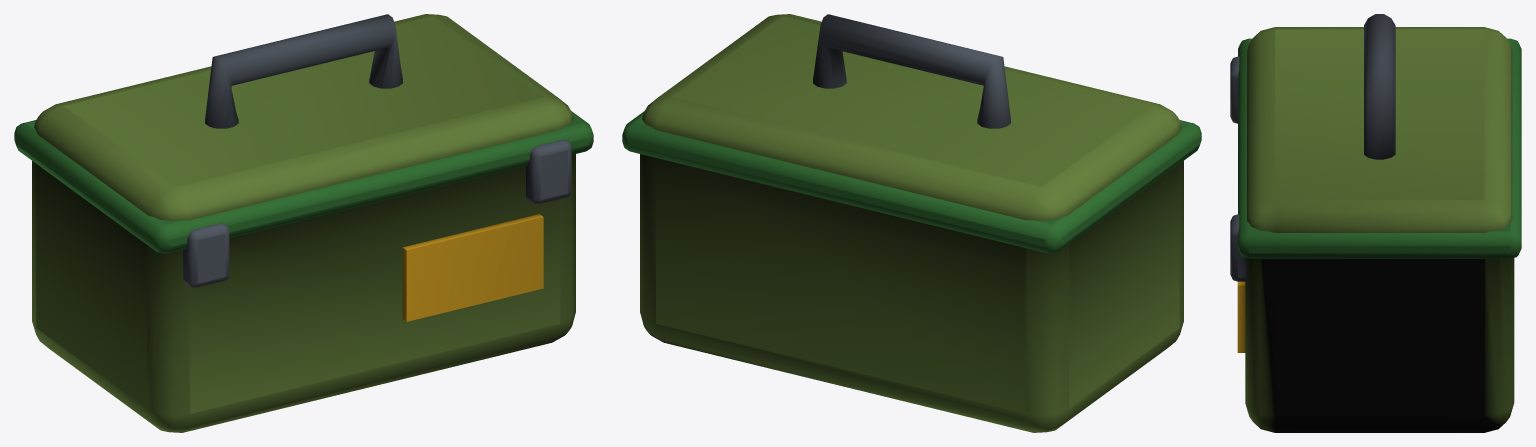
The model's file is junk_ammo.glb.
3 views of the same model, side by side, from view 1: azimuth 30°, elevation 25°; view 2: azimuth 150°, elevation 25°; view 3: azimuth 270°, elevation 25° (orthographic). The views are drawn at different scales.
Visible parts, largest first — view 1: ammo_mesh; view 2: ammo_mesh; view 3: ammo_mesh.
Part boxes in pixels (x1,y1,x2,y2): ammo_mesh: (14, 14, 593, 432); ammo_mesh: (622, 14, 1201, 432); ammo_mesh: (1230, 14, 1521, 432).
Bounding box in the file's own units: 0.64 × 0.4304 × 0.39.
